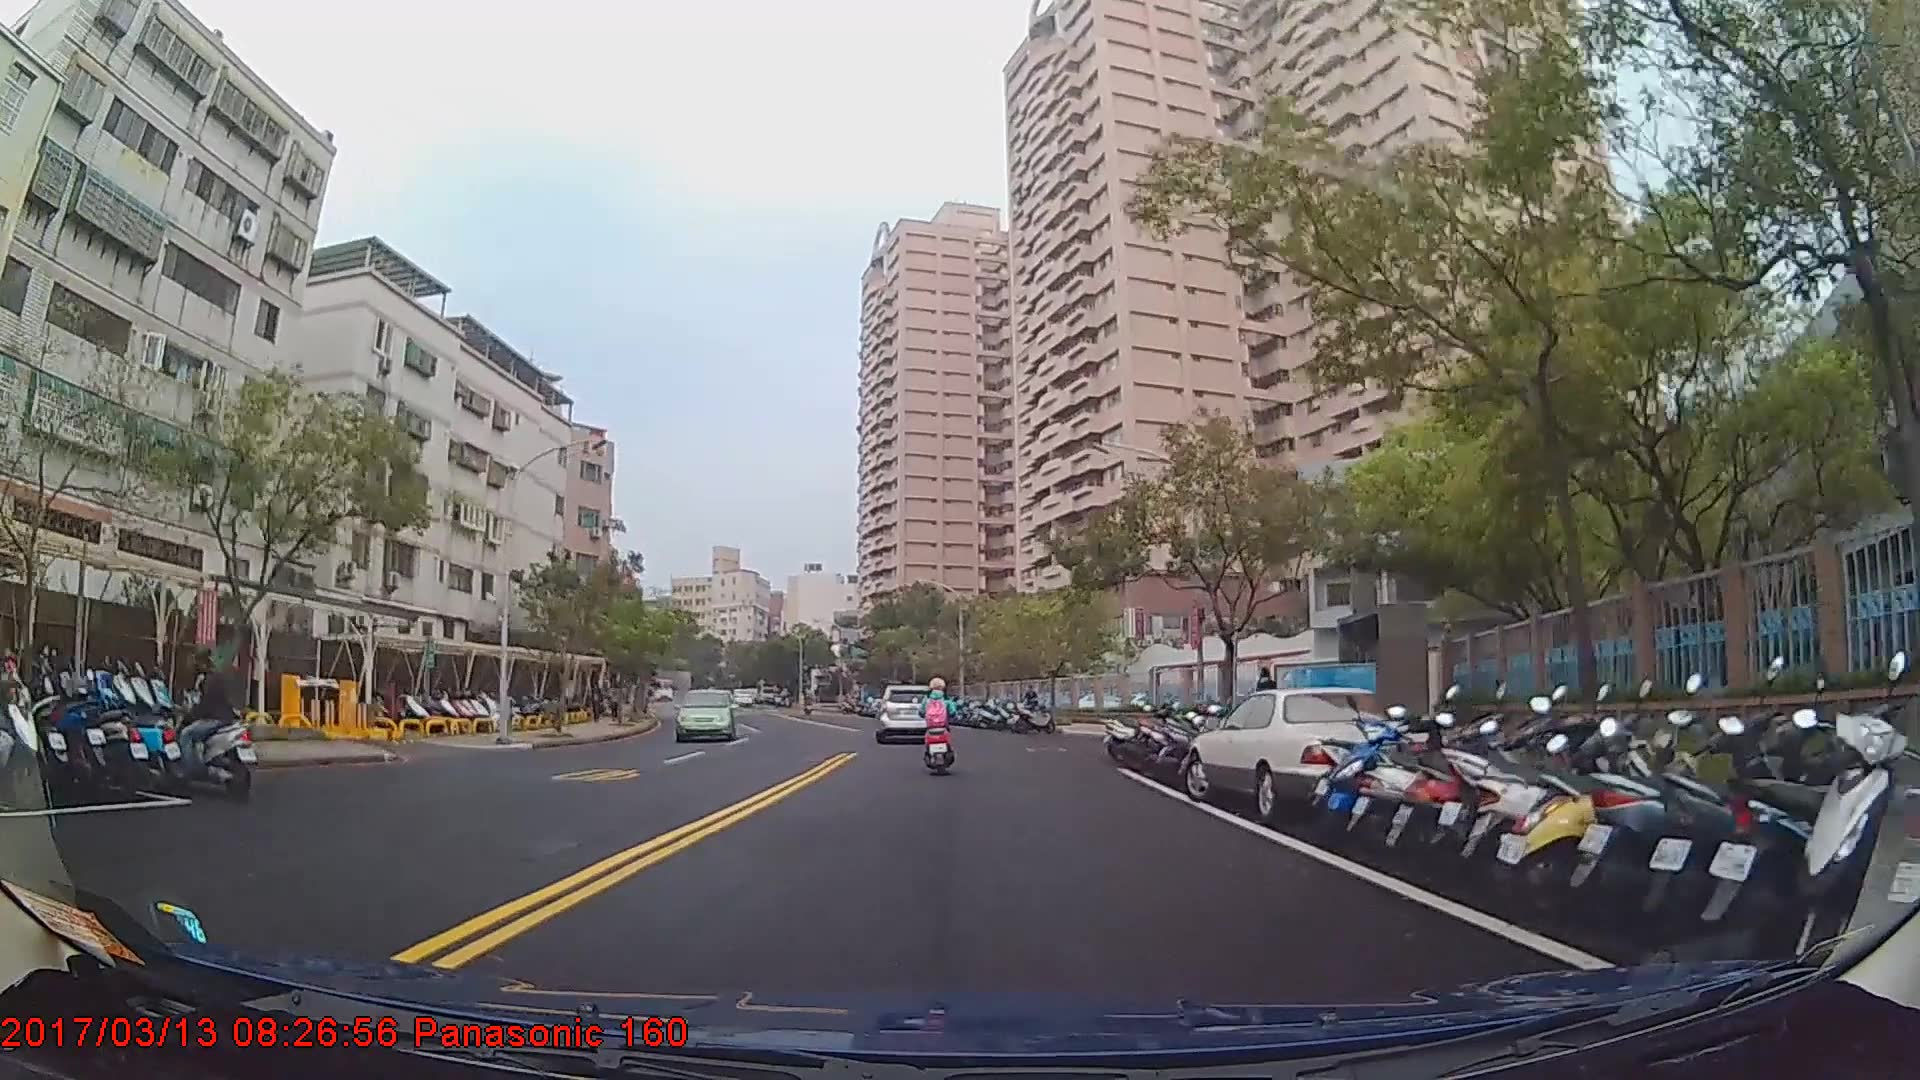pedestrian: (1254, 665, 1281, 739), (1022, 685, 1042, 726)
rider: (148, 644, 262, 799), (918, 675, 959, 776)
vehicle: (1182, 685, 1453, 819), (873, 681, 936, 741), (674, 687, 735, 743)
